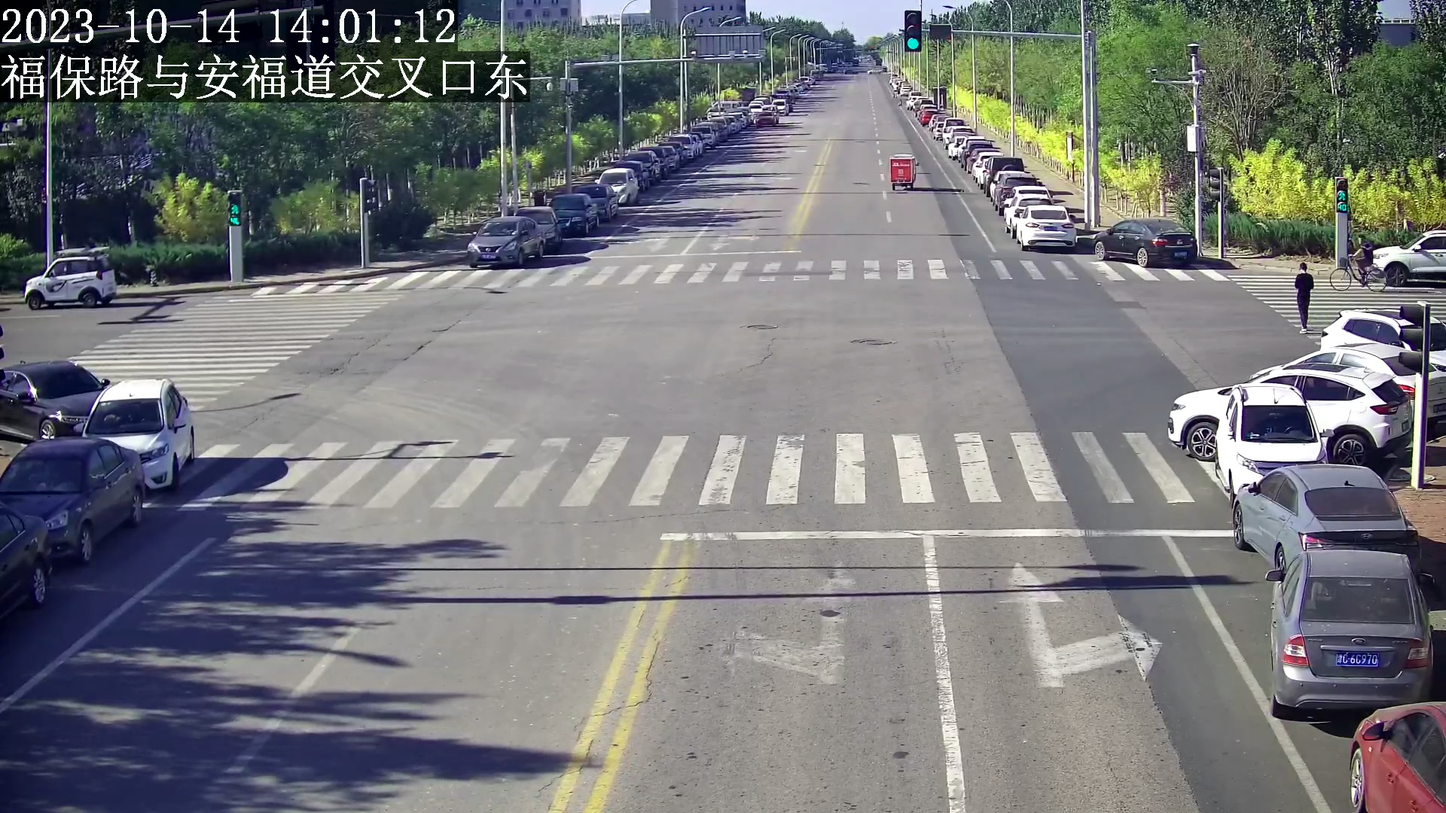person: (1292, 260, 1311, 333), (1351, 234, 1370, 279)
vehicle: (1266, 548, 1433, 711), (1168, 363, 1411, 461), (1231, 464, 1417, 565), (0, 435, 142, 560), (79, 372, 195, 492), (1219, 382, 1329, 491), (1346, 699, 1445, 813), (0, 360, 108, 443), (18, 245, 123, 308), (1092, 217, 1199, 265), (464, 214, 544, 268), (1371, 230, 1445, 284), (1016, 205, 1079, 247), (1332, 257, 1389, 290), (887, 153, 917, 191)
